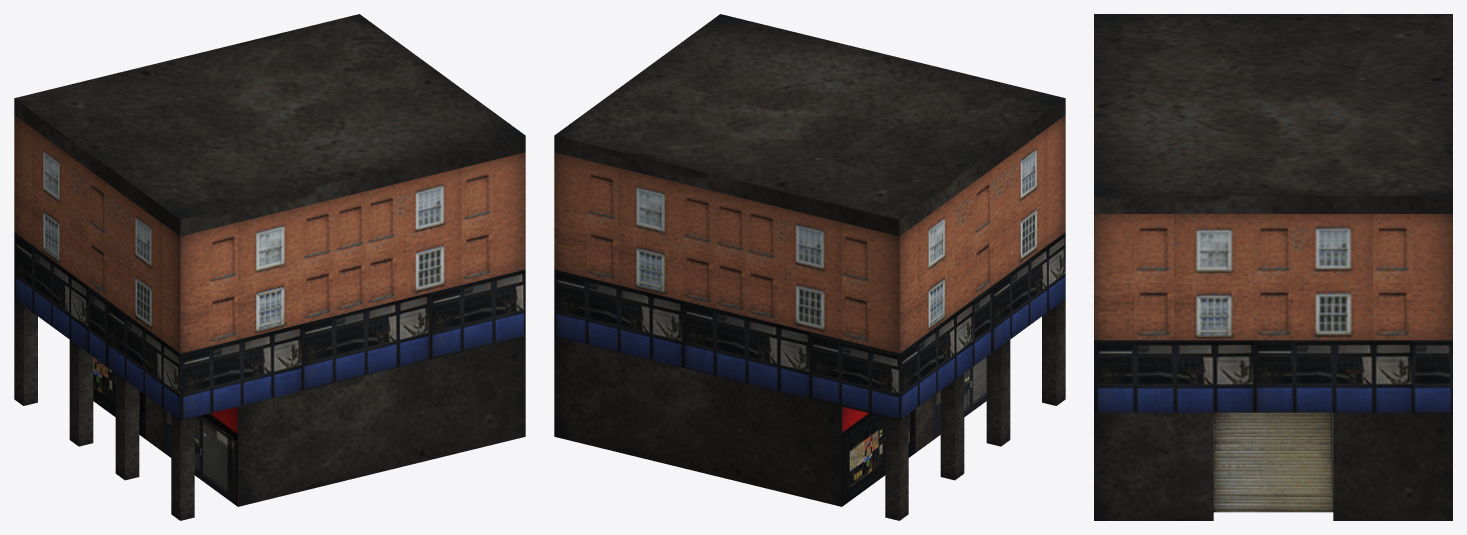
Rendered from building1.fbx.
3 views of the same model, side by side, from view 1: azimuth 30°, elevation 25°; view 2: azimuth 150°, elevation 25°; view 3: azimuth 270°, elevation 25° (orthographic). The views are drawn at different scales.
Parts seen in each view (by area): view 1: building1; view 2: building1; view 3: building1.
Part boxes in pixels (left/top/right/bottom): building1: left=14, top=14, right=525, bottom=520; building1: left=554, top=14, right=1065, bottom=520; building1: left=1094, top=14, right=1452, bottom=520.
Size of the model in its own units: 1200 by 1000 by 1000.
1 material, 1 textured.
